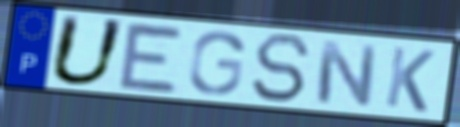E: (116, 19, 188, 96)
G: (186, 29, 247, 97)
K: (382, 44, 437, 115)
N: (313, 38, 380, 110)
S: (248, 32, 314, 105)
U: (45, 12, 129, 88)
